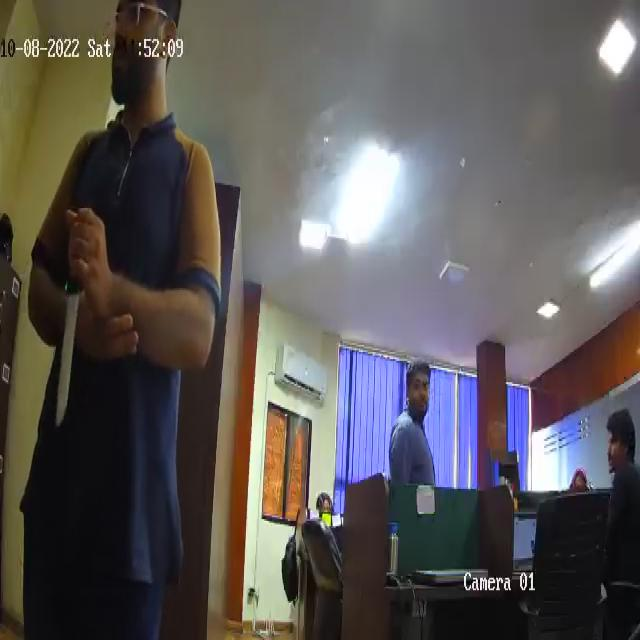Knife: (44, 228, 96, 427)
